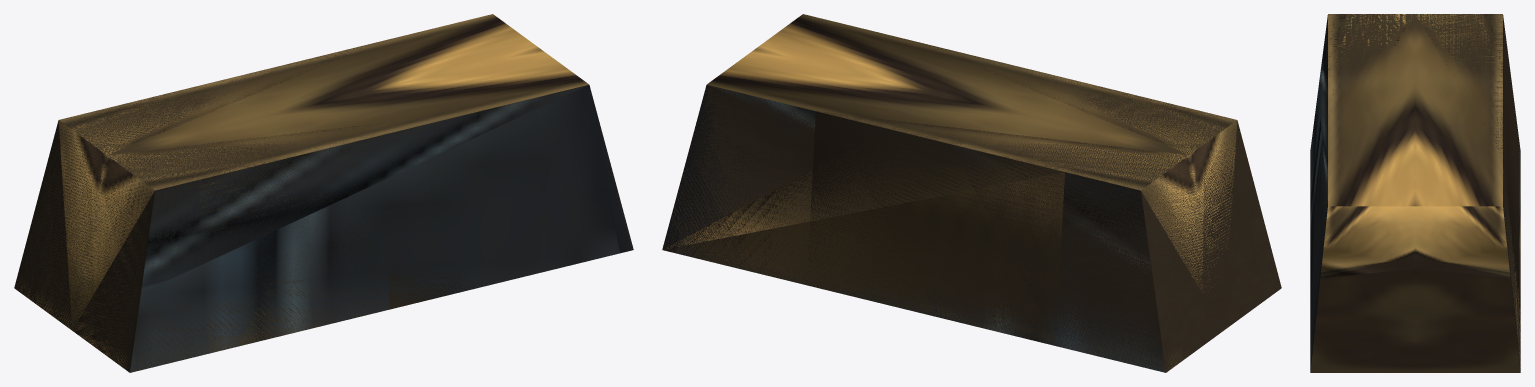
The model's file is 19_sword_morph_fbx.FBX.
3 views of the same model, side by side, from view 1: azimuth 30°, elevation 25°; view 2: azimuth 150°, elevation 25°; view 3: azimuth 270°, elevation 25° (orthographic). The views are drawn at different scales.
Parts seen in each view (by area): view 1: 19_sword; view 2: 19_sword; view 3: 19_sword.
Part boxes in pixels (bbox=[...]): 19_sword: bbox=[14, 14, 633, 372]; 19_sword: bbox=[662, 14, 1281, 372]; 19_sword: bbox=[1310, 14, 1520, 372].
Size of the model in its own units: 30.8 by 9.75 by 12.26.
